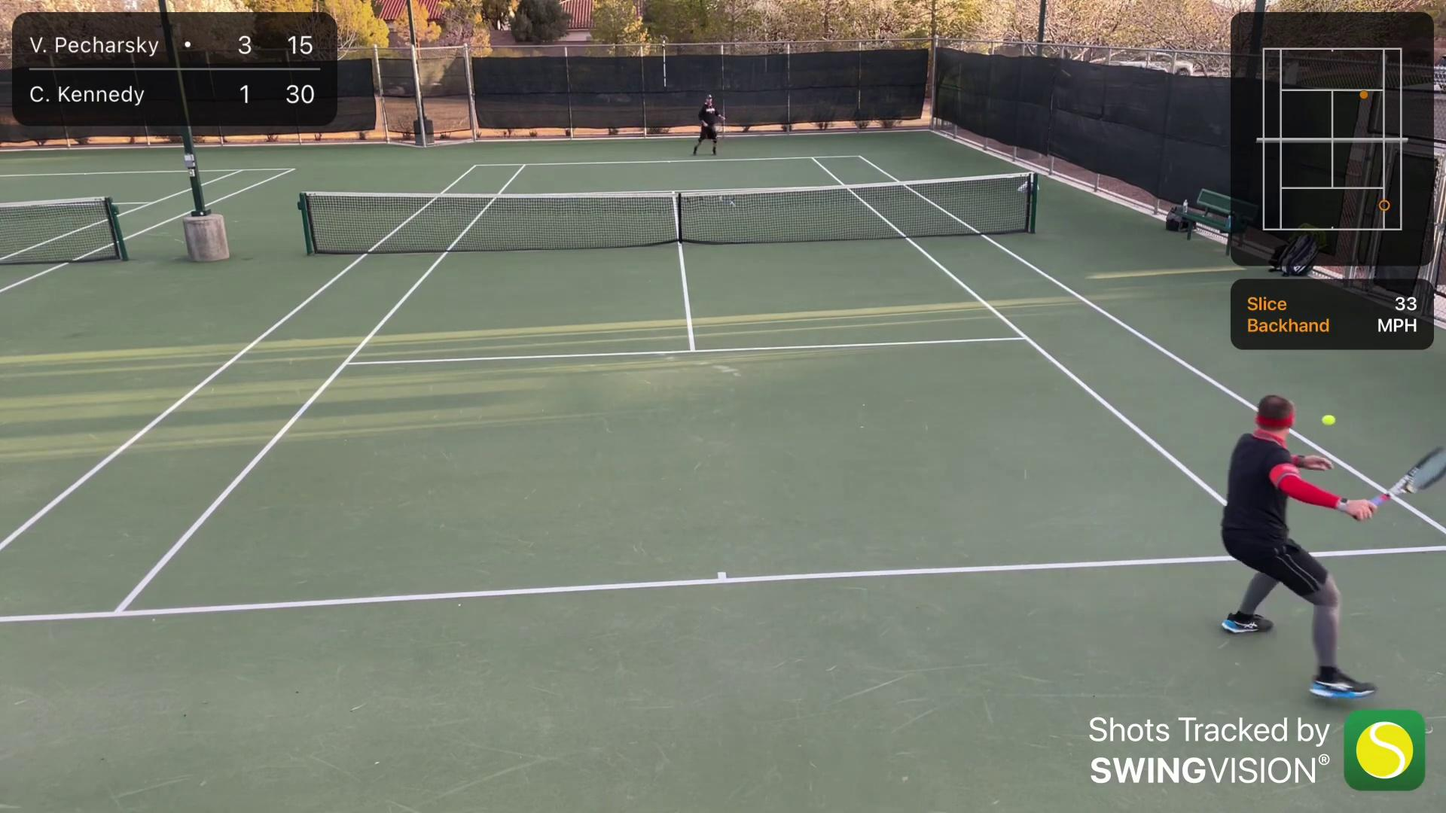ball: (1318, 414, 1340, 428)
